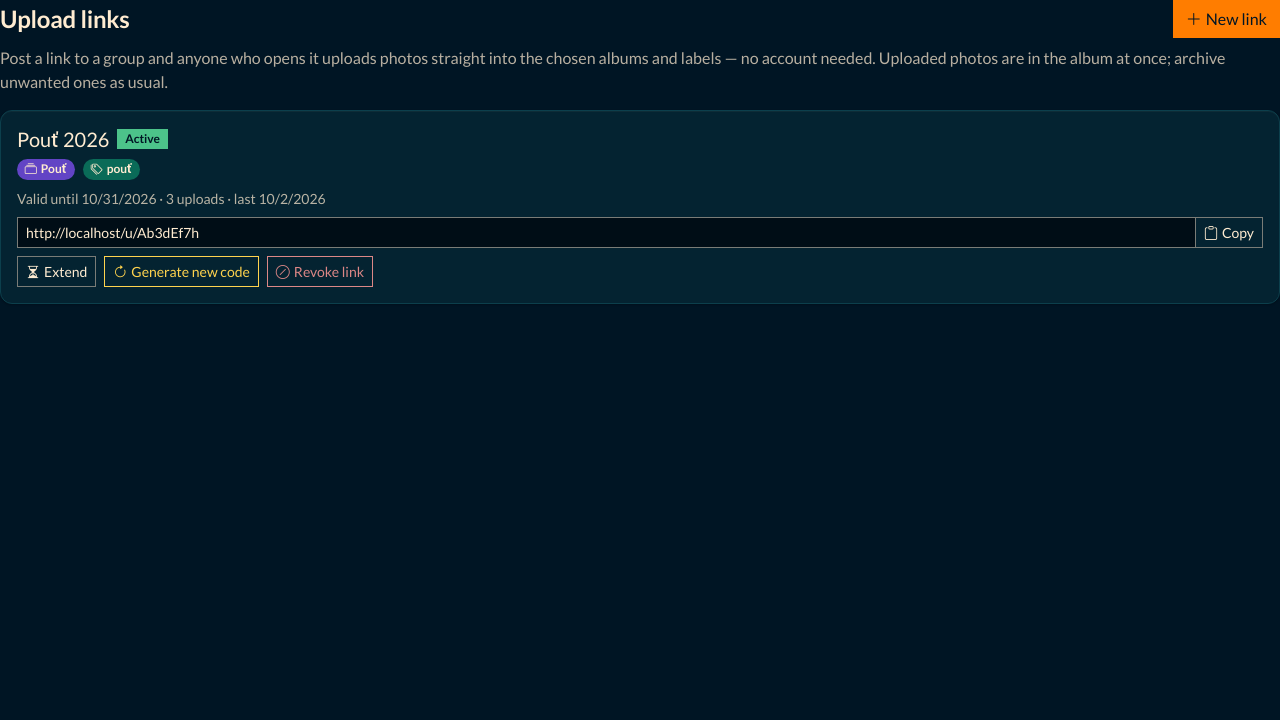
Test case: UploadLinksPage › extends and revokes a link
Expected: the element with test id "upload-link-card" is shown, [0,110,1279,304]
Click the button "Extend" at coordinates (57, 271), box [17,256,96,287]
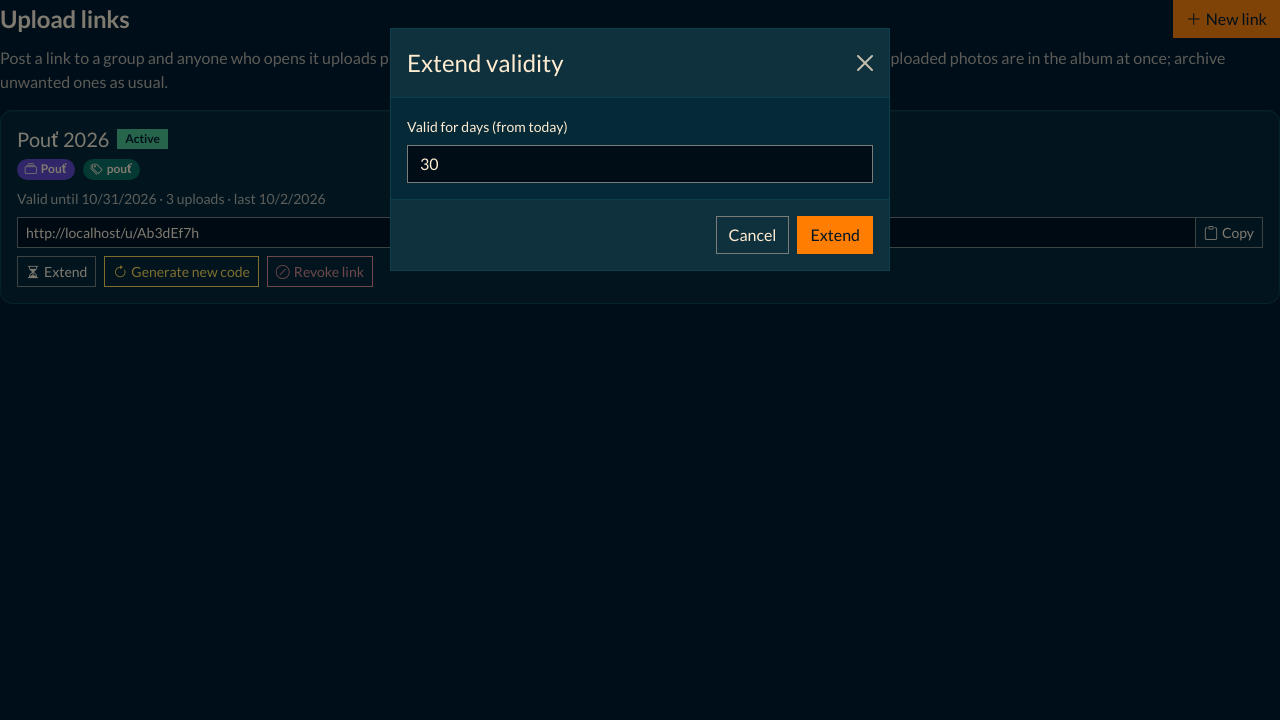
Replace the text in the number field labelled "Valid for days (from today)" with "60" at coordinates (640, 164), box [407,145,873,183]
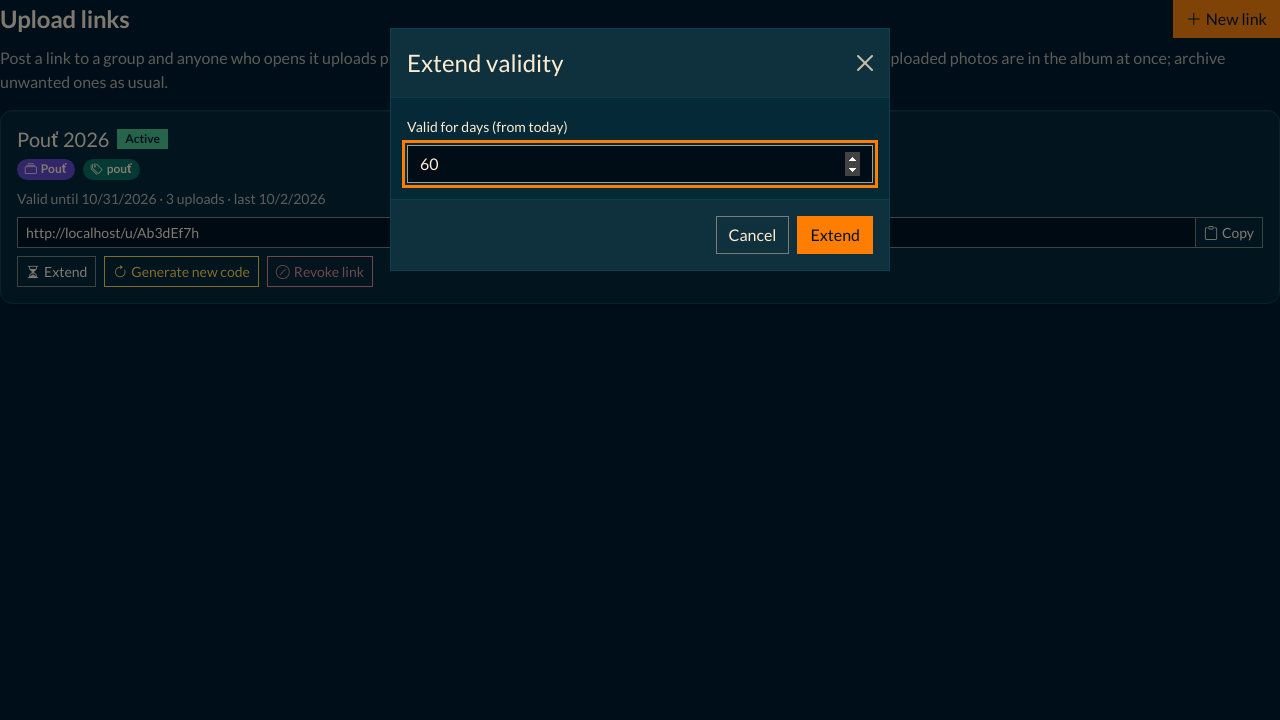
Click the button "Extend" at coordinates (835, 235), box [797,216,873,254]
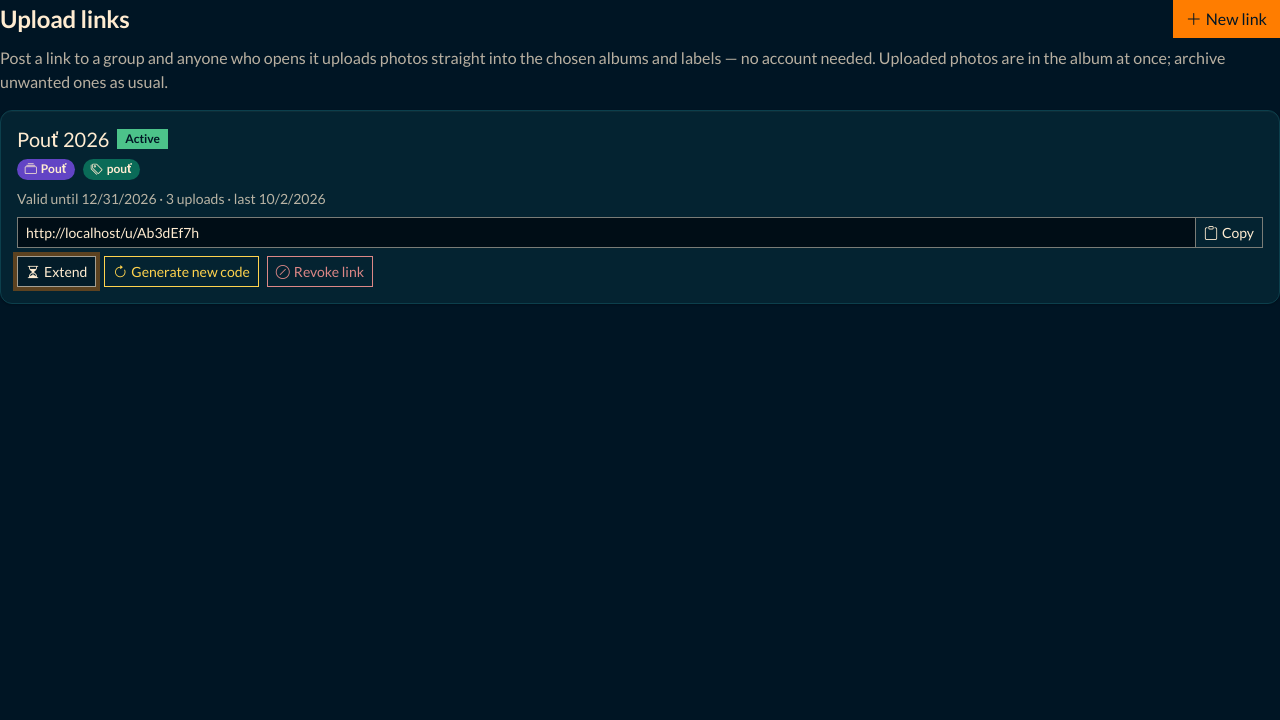
Expected: the dialog is gone
Click the button "Revoke link" at coordinates (320, 271), box [267,256,373,287]
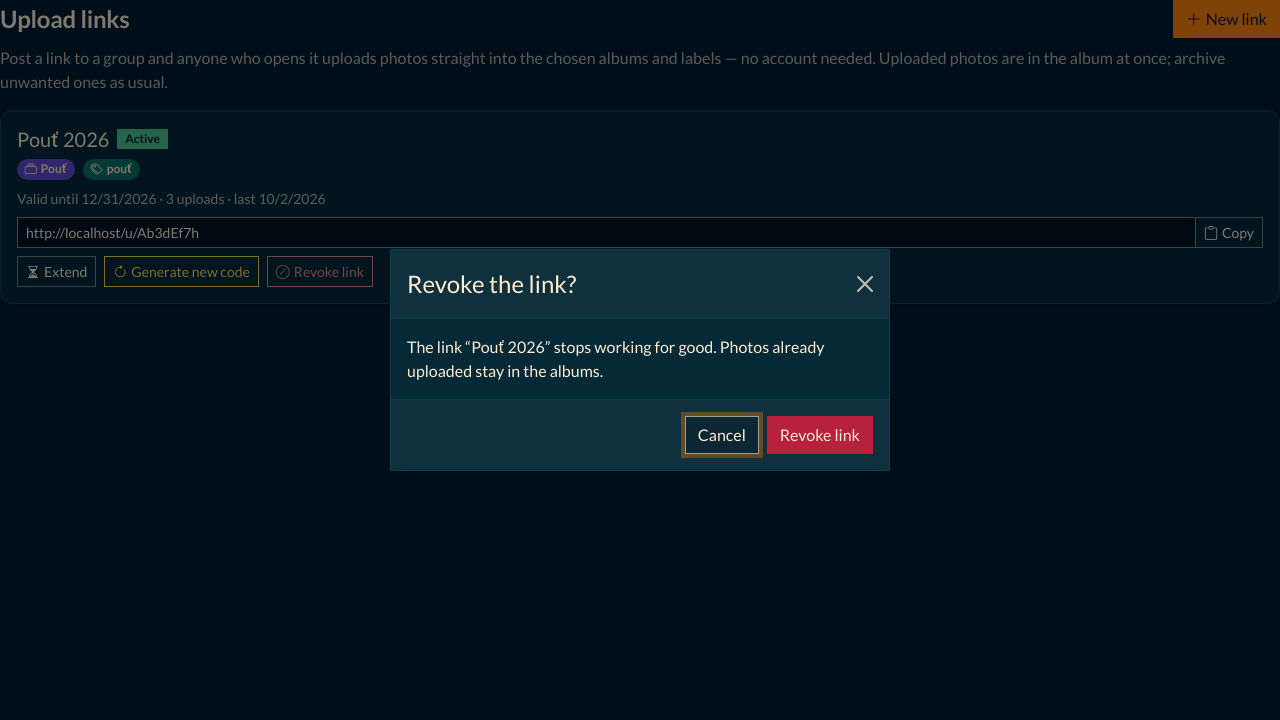
Click the button "Revoke link" at coordinates (820, 435), box [767,416,873,454]
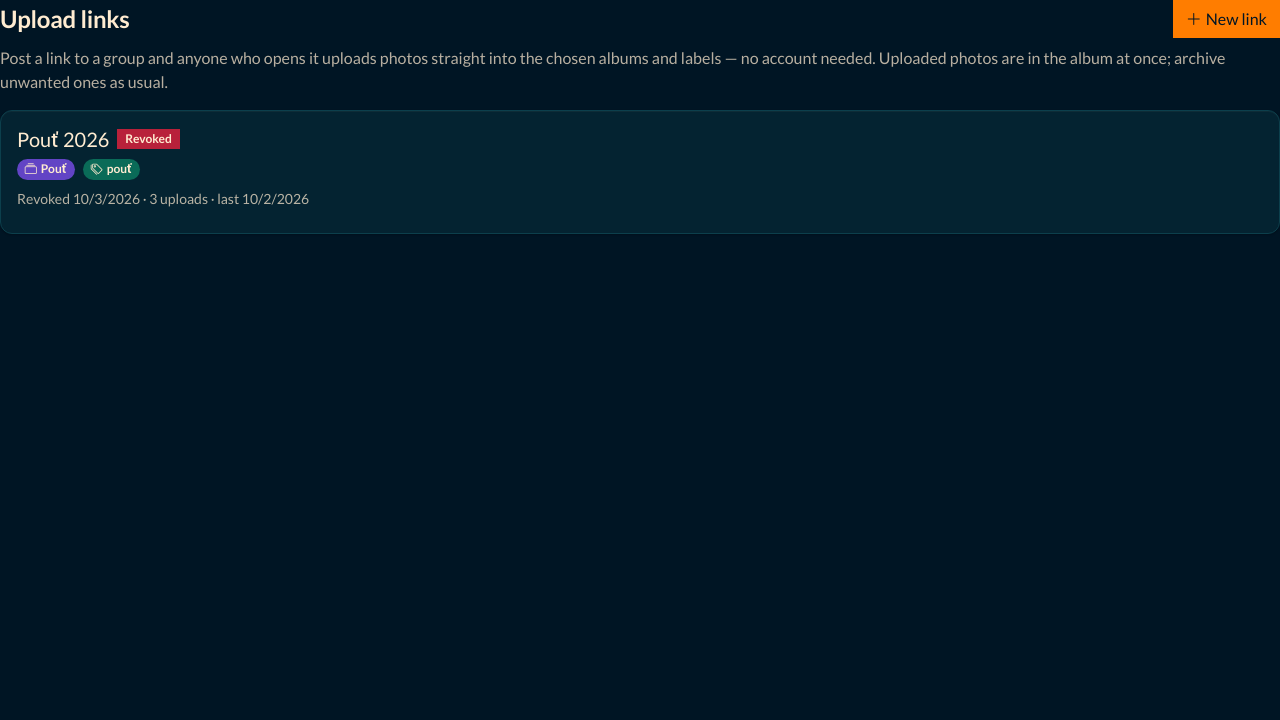
Expected: the text "Revoked" is shown, [117,129,180,149]
Expected: the button "Extend" is gone
